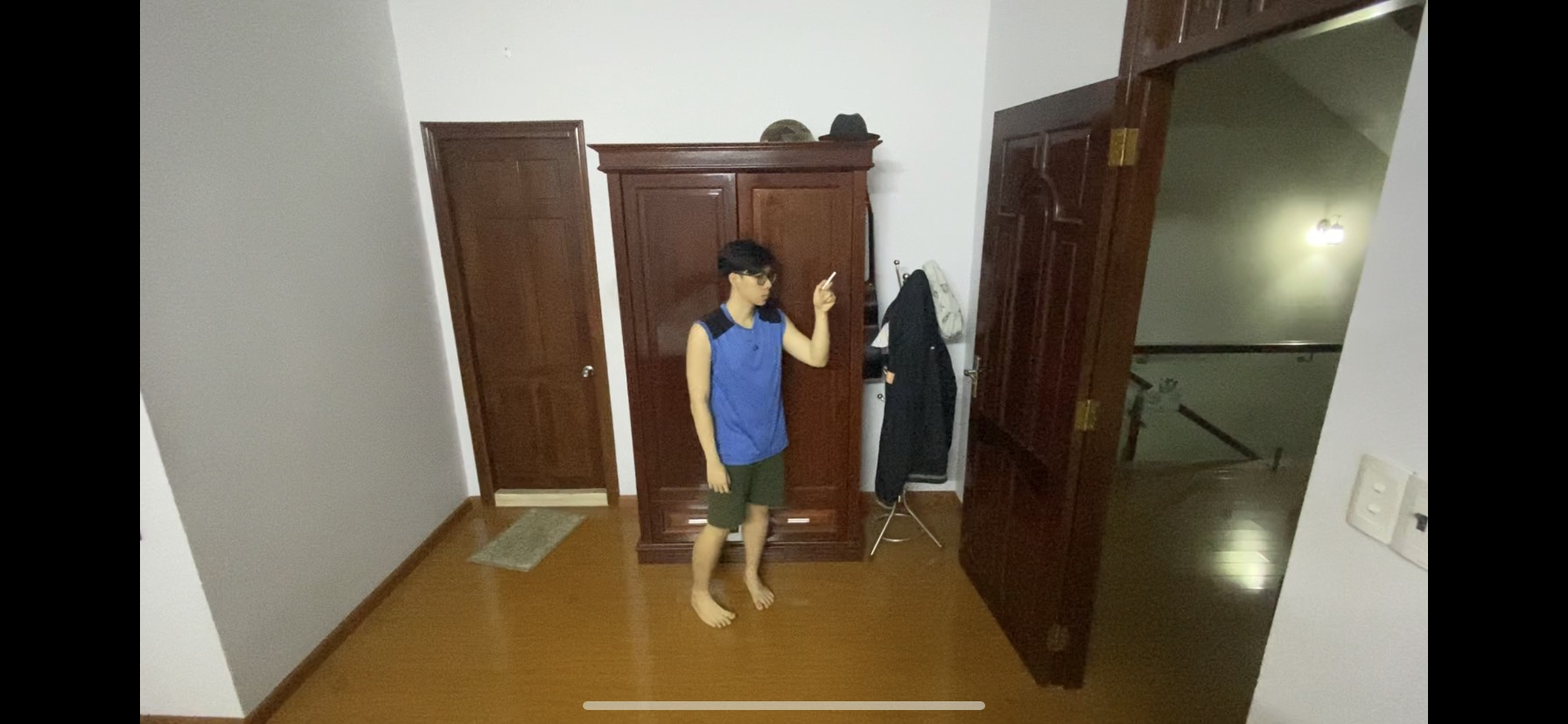cigarette: (830, 268, 839, 282)
person: (654, 228, 832, 641)
